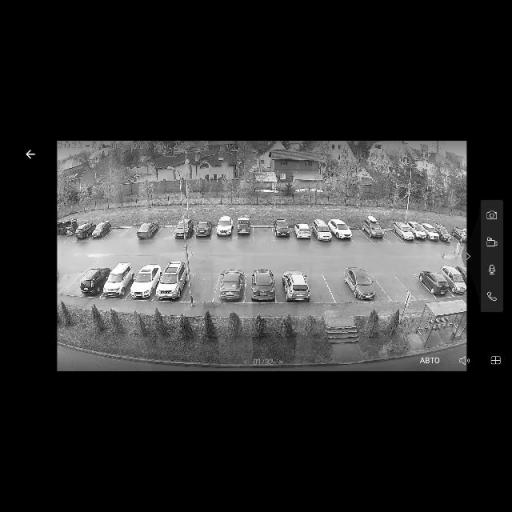busy: (340, 267, 383, 301), (156, 263, 188, 302), (126, 266, 160, 300), (416, 271, 456, 297), (103, 266, 134, 299), (74, 268, 108, 297), (284, 272, 314, 302), (216, 270, 245, 301), (248, 270, 275, 302), (444, 266, 470, 297), (360, 216, 388, 240), (328, 218, 356, 241), (392, 221, 421, 241), (310, 220, 334, 240), (136, 222, 162, 240), (419, 222, 443, 240), (215, 215, 236, 235), (234, 216, 254, 236), (72, 222, 98, 237), (272, 220, 293, 238), (434, 224, 454, 242), (90, 222, 112, 238), (191, 222, 212, 238), (296, 222, 314, 240), (448, 227, 466, 242), (172, 224, 191, 238)
free: (310, 276, 330, 302), (386, 280, 412, 298), (405, 278, 424, 296), (349, 226, 368, 242), (190, 287, 210, 300), (68, 280, 82, 296), (382, 228, 397, 242), (158, 228, 175, 239), (255, 229, 267, 237), (126, 232, 135, 242), (111, 230, 121, 239)
